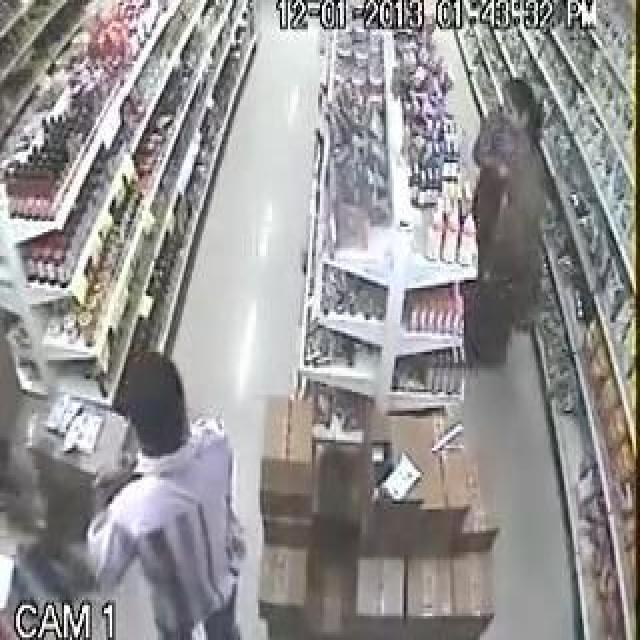Shoplifting: (456, 62, 574, 389)
